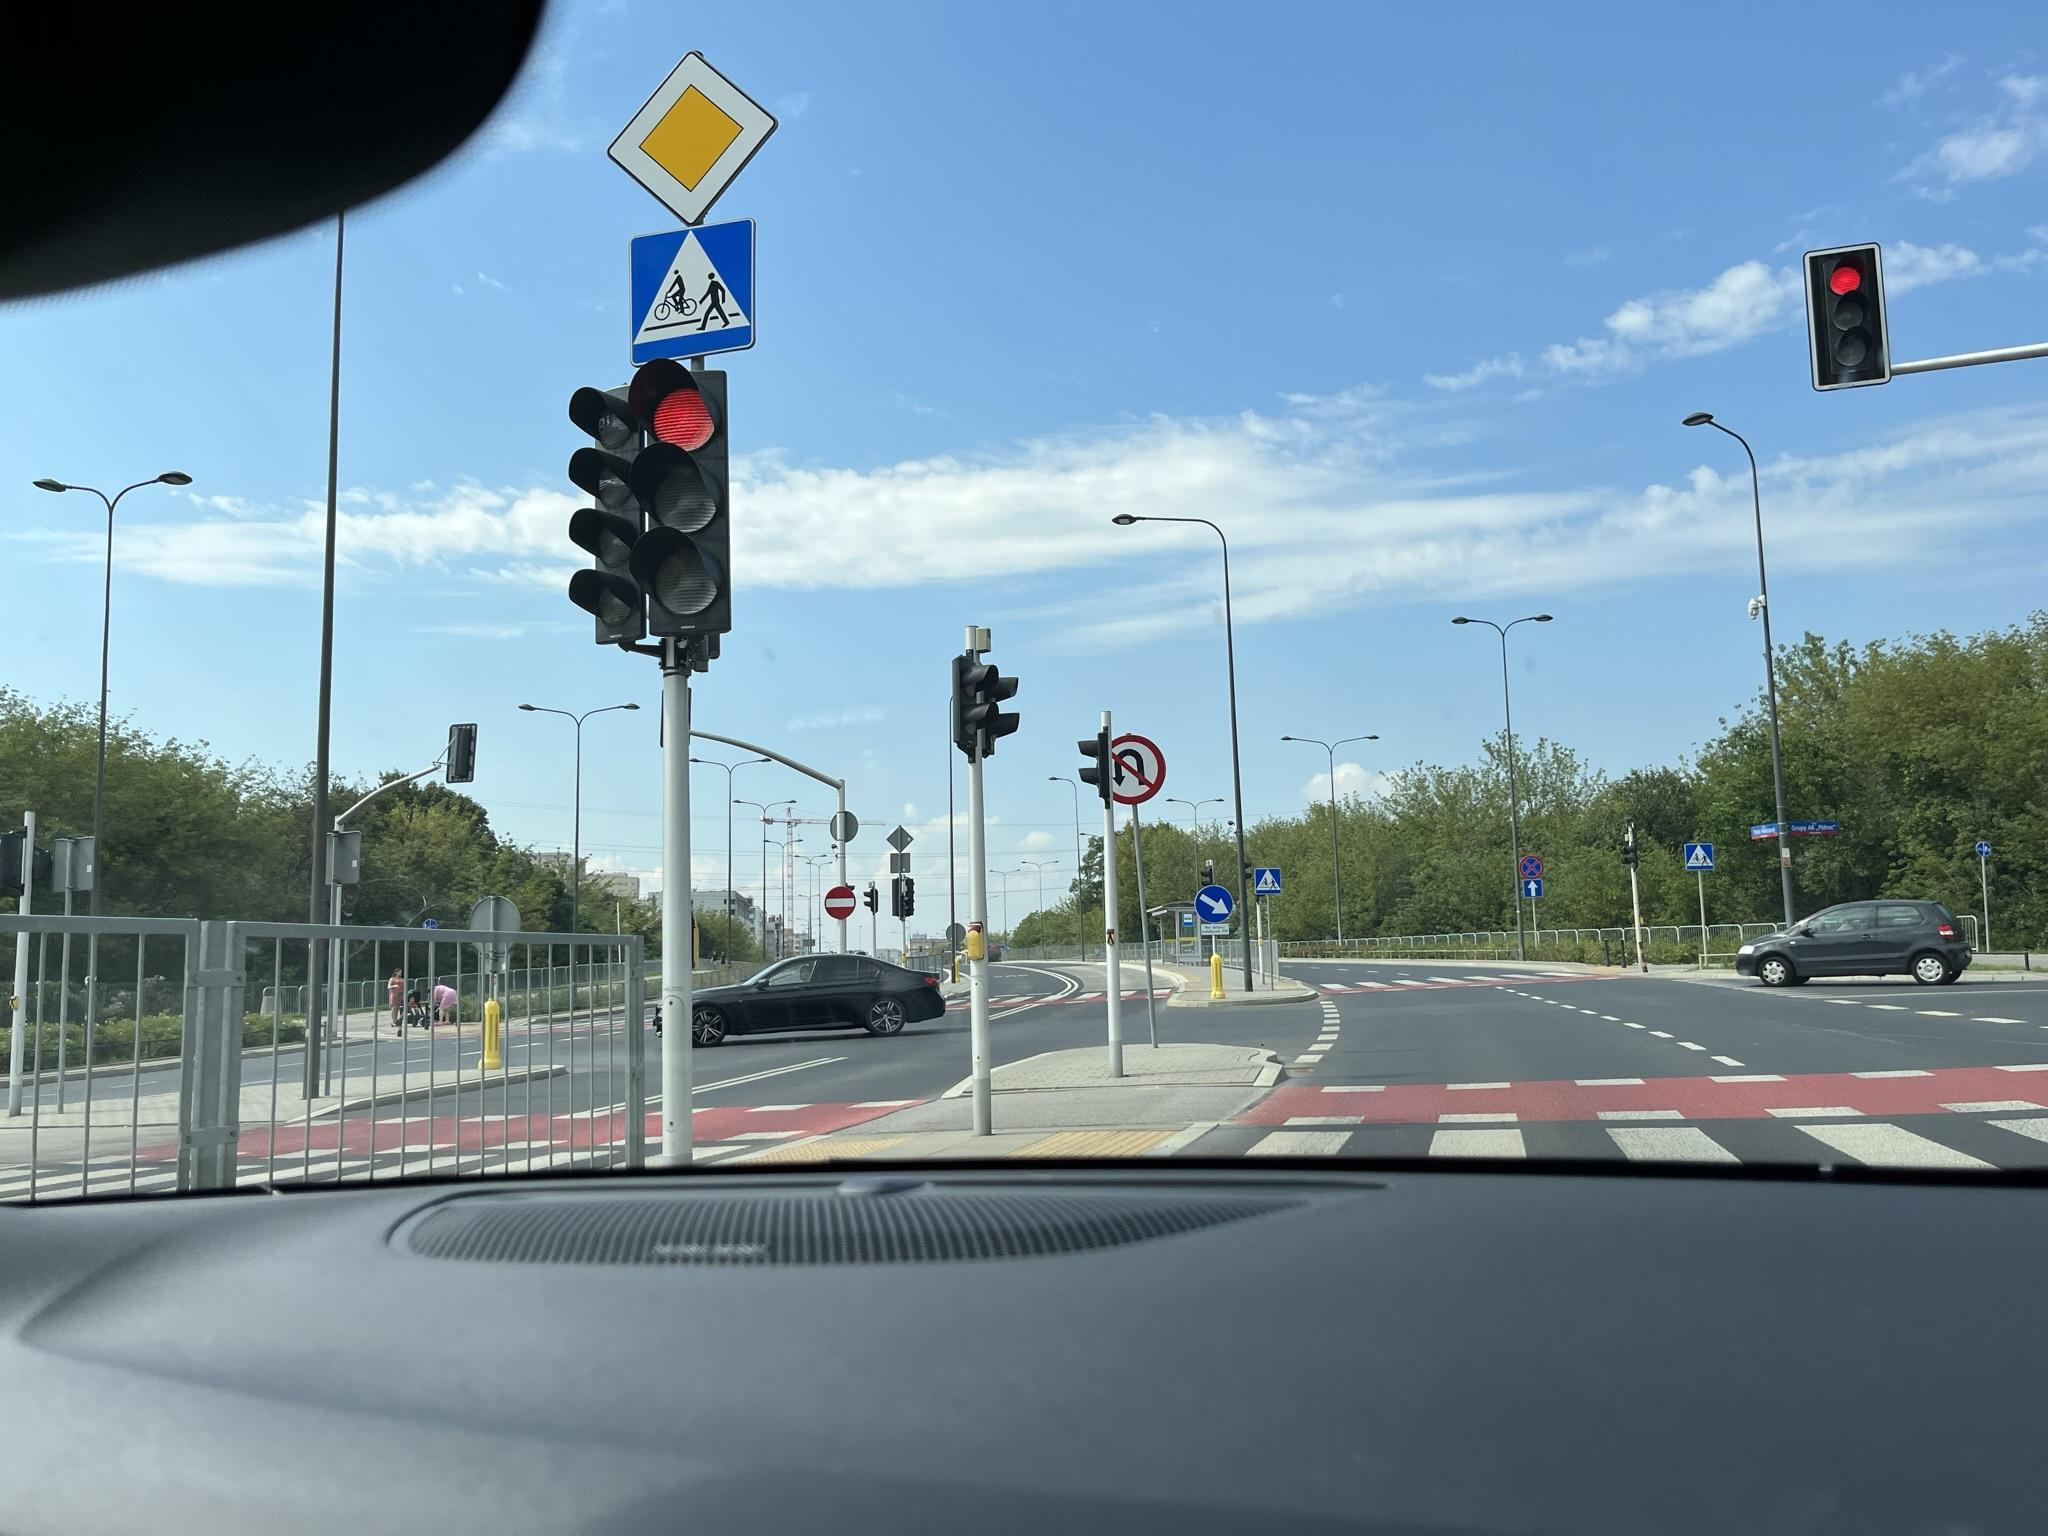information: (606, 48, 780, 226), (629, 224, 755, 363), (1687, 844, 1713, 868), (1255, 868, 1280, 892), (1524, 879, 1542, 897)
mandatory: (1195, 884, 1234, 925), (1975, 841, 1993, 857)
prohibitory: (1111, 733, 1168, 805), (824, 886, 856, 920), (1519, 855, 1543, 879)
